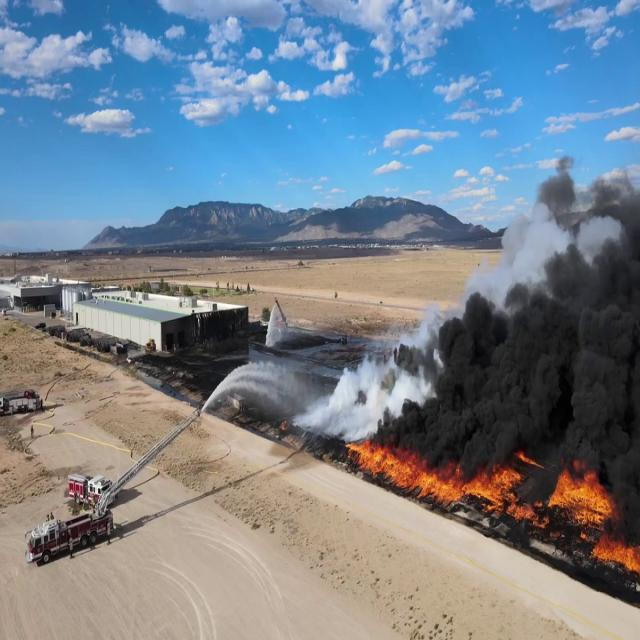Fire: (348, 437, 516, 506), (547, 462, 640, 582)
Smoke: (409, 146, 640, 483), (304, 341, 402, 439)
